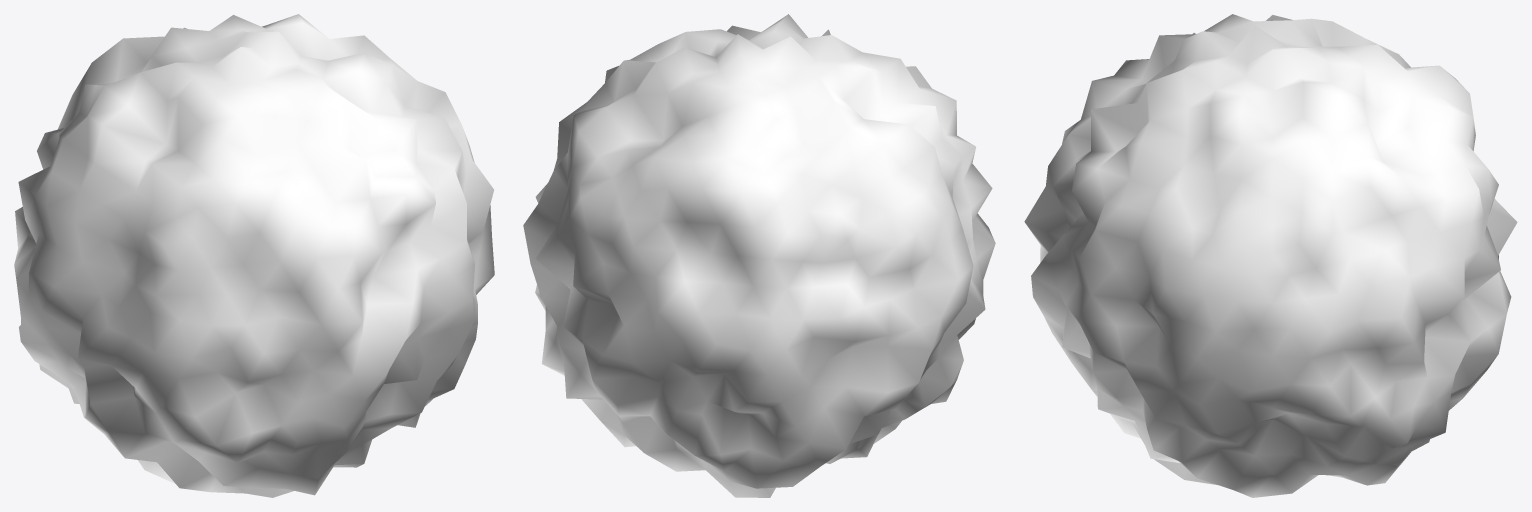
Rendered from P_BOMB.fbx.
3 renders of one model, left to right at view 1: azimuth 30°, elevation 25°; view 2: azimuth 150°, elevation 25°; view 3: azimuth 270°, elevation 25°, orthographic. The views are drawn at different scales.
Visible parts, largest first — view 1: MeshBaker_mesh_mesh; view 2: MeshBaker_mesh_mesh; view 3: MeshBaker_mesh_mesh.
Part boxes in pixels (box(x1,y1,x2,y2)): MeshBaker_mesh_mesh: box(14, 14, 494, 497); MeshBaker_mesh_mesh: box(523, 14, 995, 497); MeshBaker_mesh_mesh: box(1024, 14, 1517, 497).
Bounding box in the file's own units: 61.59 × 61.72 × 62.19.
Materials: 1 (1 with a texture image).
